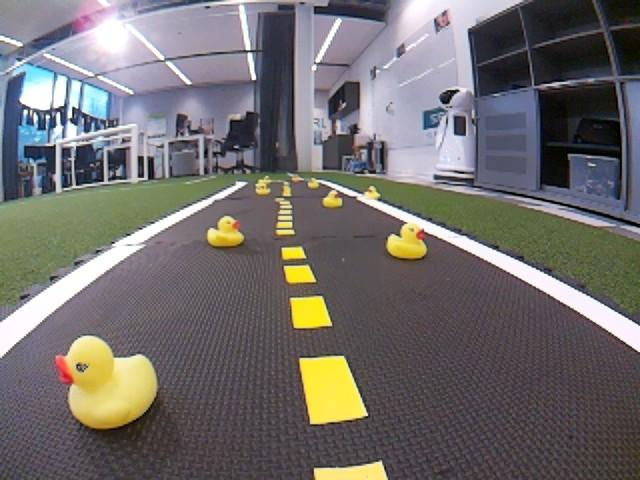Duckies: (56, 333, 156, 433), (388, 222, 429, 258), (208, 215, 248, 249), (323, 190, 346, 209), (255, 178, 272, 194), (366, 185, 379, 200), (308, 177, 321, 188)
